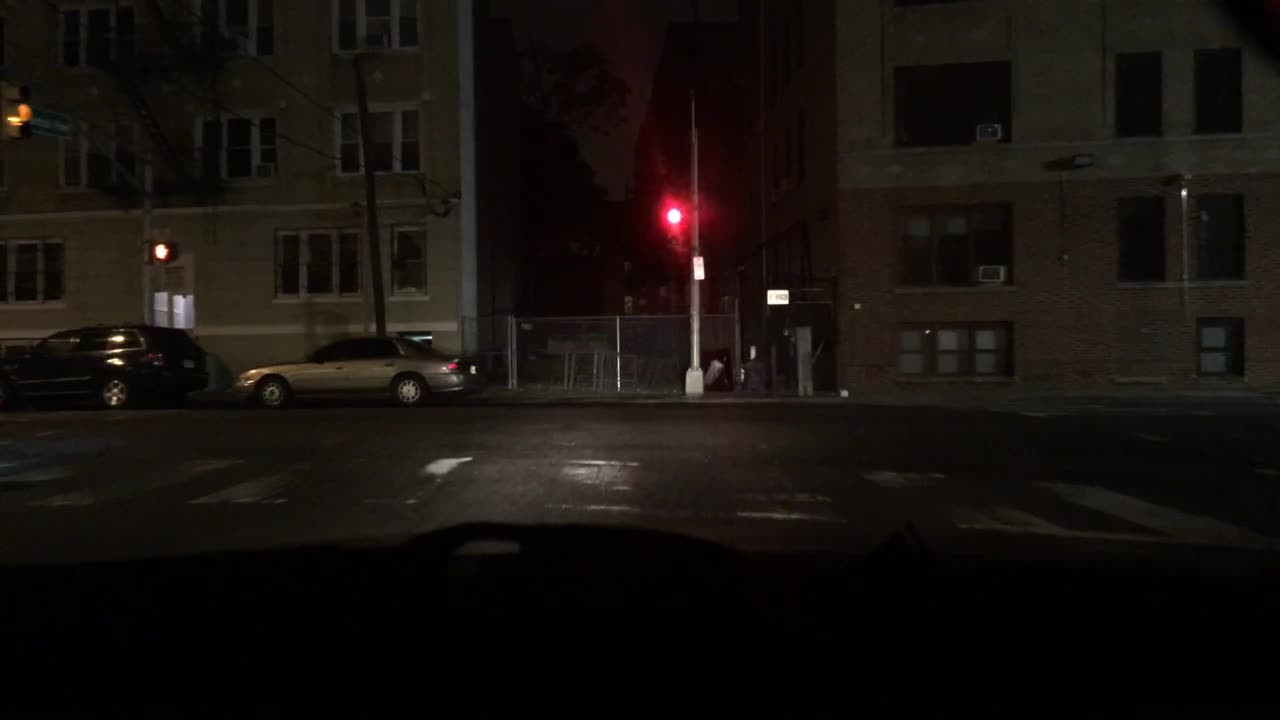car: (236, 334, 481, 408), (0, 325, 208, 410)
traffic light: (0, 79, 35, 140), (150, 239, 177, 262), (667, 196, 682, 230)
traffic sign: (25, 105, 75, 138), (766, 288, 790, 305), (691, 255, 706, 280)
